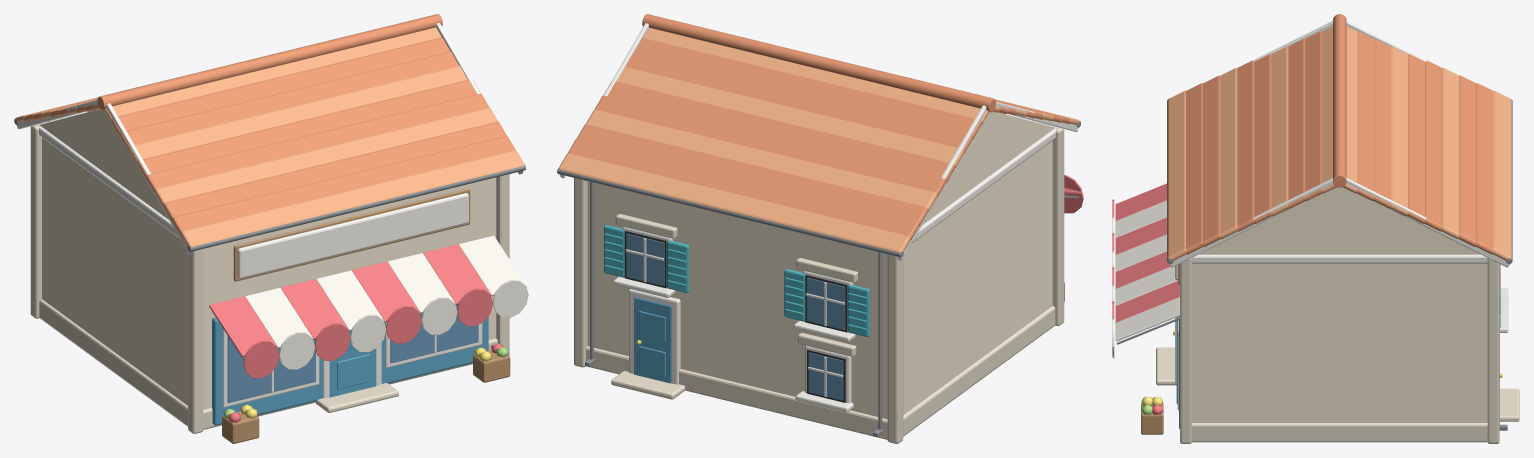
Rendered from shop.fbx.
The picture shows the model from 3 angles, left to right: view 1: azimuth 30°, elevation 25°; view 2: azimuth 150°, elevation 25°; view 3: azimuth 270°, elevation 25°; orthographic projection. The views are drawn at different scales.
Visible parts, largest first — view 1: Visual; view 2: Visual; view 3: Visual.
Part boxes in pixels (box(x1,y1,x2,y2)): Visual: box(14, 14, 528, 443); Visual: box(557, 14, 1083, 443); Visual: box(1112, 14, 1519, 443).
Size of what is drawn, in the model's own units: 1000 by 796 by 1064.
